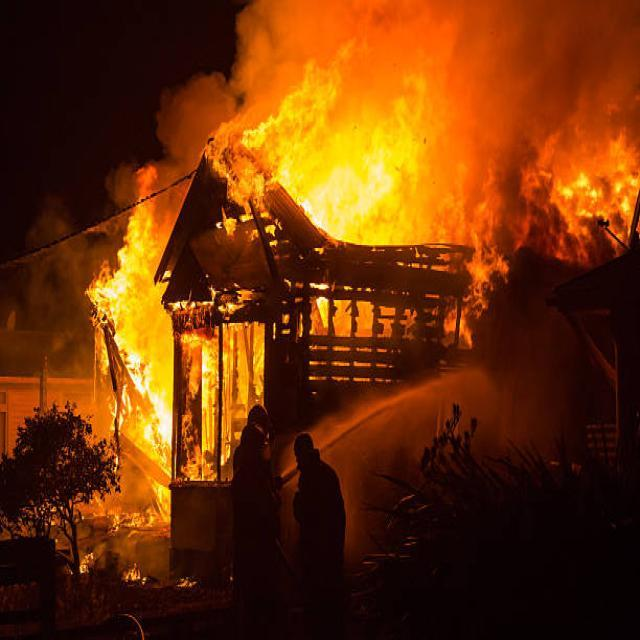Fire: (222, 102, 434, 268), (98, 212, 206, 474), (513, 154, 640, 264), (197, 307, 244, 428)
Smoke: (246, 11, 631, 171), (470, 131, 560, 273)
